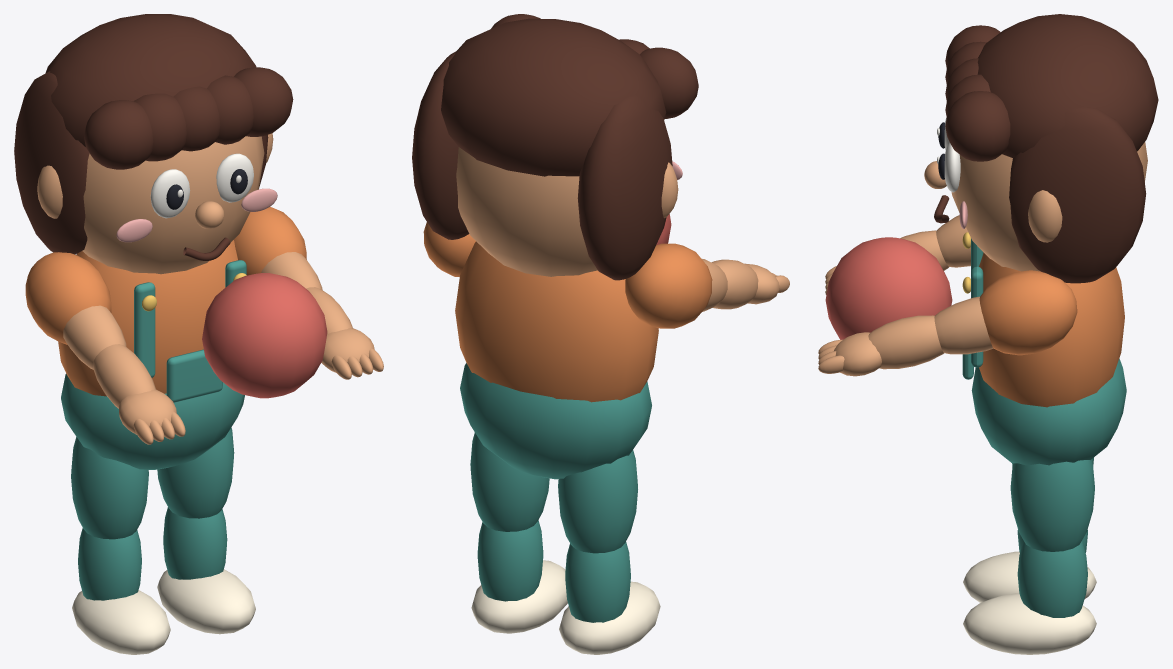
The model's file is ava-throw.glb.
3 renders of one model, left to right at view 1: azimuth 30°, elevation 25°; view 2: azimuth 150°, elevation 25°; view 3: azimuth 270°, elevation 25°, orthographic. The views are drawn at different scales.
Visible parts, largest first — view 1: hair cap, clay head, soft ball, soft shirt, bob hair, overalls, trouser leg, shirt sleeve, little shoe.001, little shoe, trouser leg.001, fringe (+21 smaller); view 2: hair cap, soft shirt, overalls, bob hair, clay head, trouser leg, bob hair.001, shirt sleeve, trouser leg.001, lower leg.001, lower leg, little shoe (+7 smaller); view 3: bob hair.001, hair cap, soft shirt, soft ball, overalls, trouser leg.001, shirt sleeve.001, clay head, little shoe.001, lower leg.001, fringe.004, forearm.001 (+12 smaller).
Part boxes in pixels (x1,y1,x2,y2): hair cap: [45, 14, 256, 146]; clay head: [82, 136, 264, 274]; soft ball: [202, 273, 327, 398]; soft shirt: [58, 240, 237, 396]; bob hair: [14, 71, 89, 254]; overalls: [61, 373, 244, 469]; trouser leg: [71, 437, 148, 539]; shirt sleeve: [25, 252, 111, 344]; little shoe.001: [157, 569, 255, 634]; little shoe: [72, 590, 170, 654]; trouser leg.001: [157, 427, 234, 518]; fringe: [84, 100, 153, 169]; hair cap: [441, 18, 666, 176]; soft shirt: [455, 241, 658, 402]; overalls: [460, 363, 651, 479]; bob hair: [577, 95, 672, 280]; clay head: [456, 147, 597, 276]; trouser leg: [558, 450, 637, 553]; bob hair.001: [412, 51, 469, 239]; shirt sleeve: [625, 243, 712, 328]; trouser leg.001: [470, 432, 549, 531]; lower leg.001: [477, 520, 543, 601]; lower leg: [565, 542, 630, 622]; little shoe: [559, 581, 660, 654]; bob hair.001: [1009, 107, 1146, 283]; hair cap: [977, 14, 1158, 157]; soft shirt: [979, 253, 1124, 407]; soft ball: [825, 237, 952, 339]; overalls: [971, 358, 1126, 465]; trouser leg.001: [1010, 460, 1094, 551]; shirt sleeve.001: [979, 270, 1077, 355]; clay head: [951, 142, 1147, 271]; little shoe.001: [963, 593, 1096, 654]; lower leg.001: [1017, 541, 1087, 617]; fringe.004: [945, 91, 1010, 161]; forearm.001: [868, 315, 943, 369].
Bounding box in the file's own units: 0.87 × 1.87 × 0.9652.
